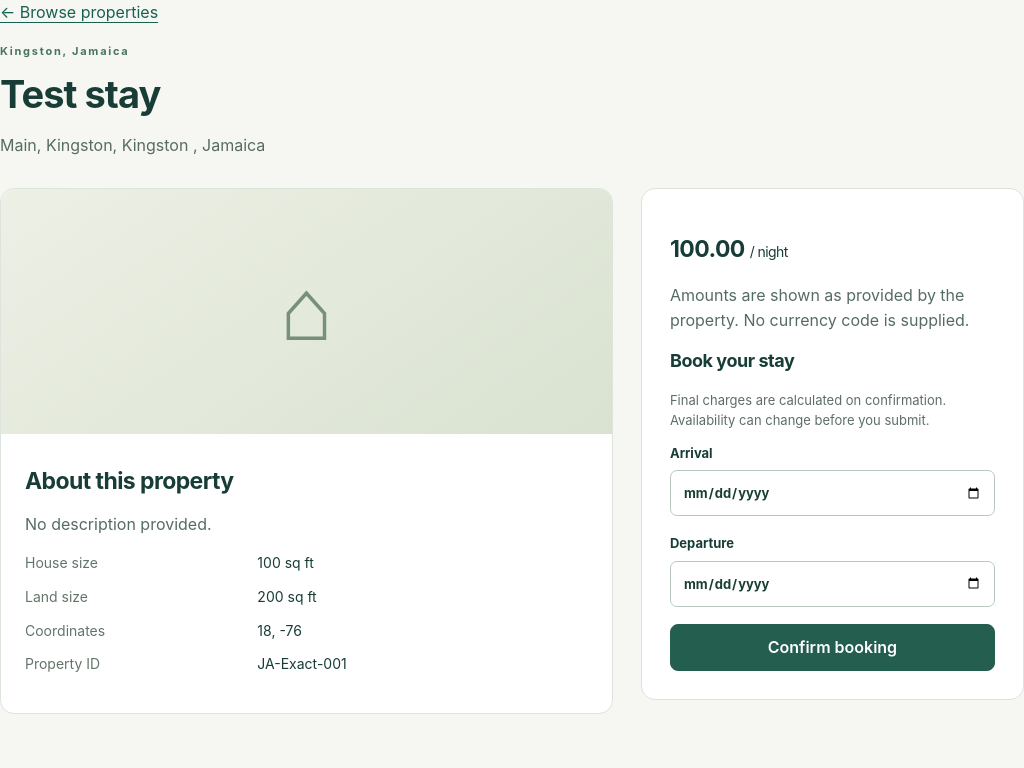
Test: shows a booking conflict without inventing success
Check: the heading "Book your stay" is shown, box [670, 350, 794, 371]
Step 1. Type "2030-01-03" into the date field labelled "Arrival" → (832, 493), box [670, 470, 995, 516]
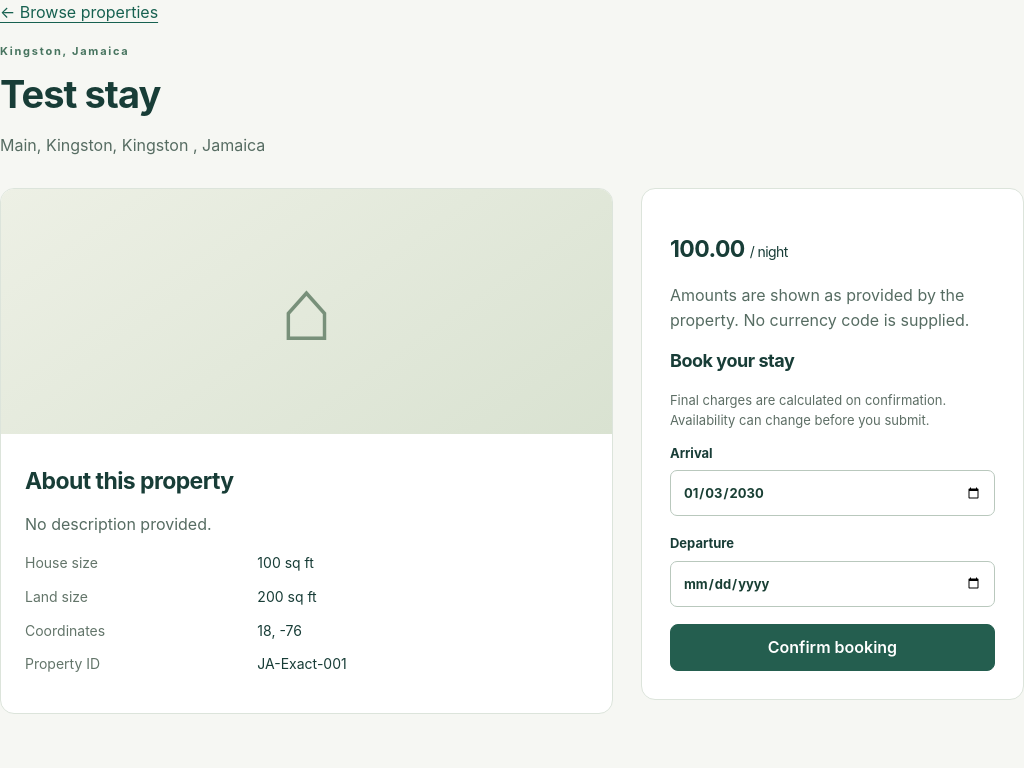
Step 2. Type "2030-01-05" into the date field labelled "Departure" → (832, 584), box [670, 561, 995, 607]
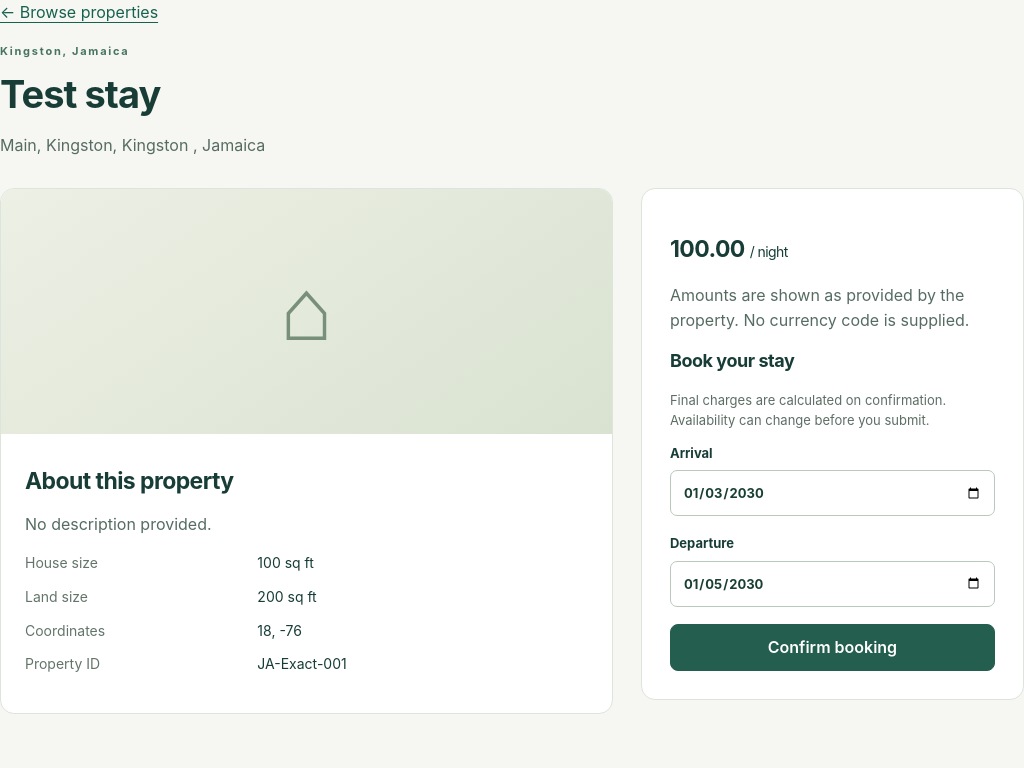
Step 3. Click the button "Confirm booking" → (832, 647), box [670, 624, 995, 671]
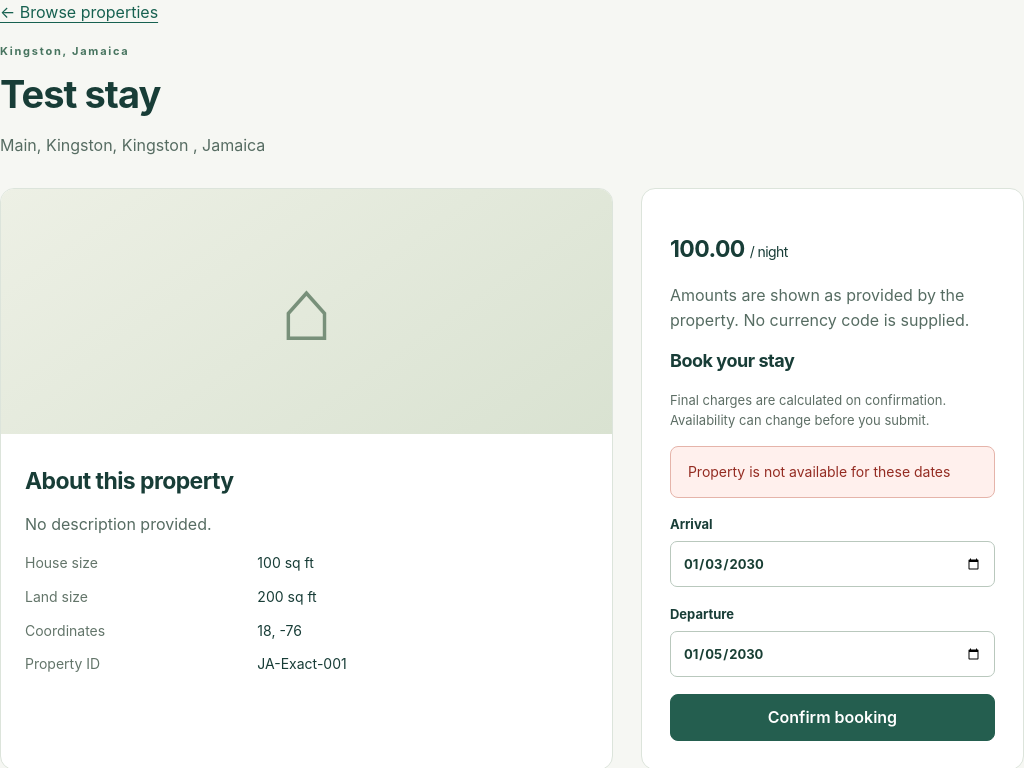
Check: the message shows "not available", box [688, 463, 950, 480]
